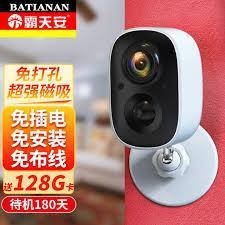maru: (99, 13, 214, 169)
